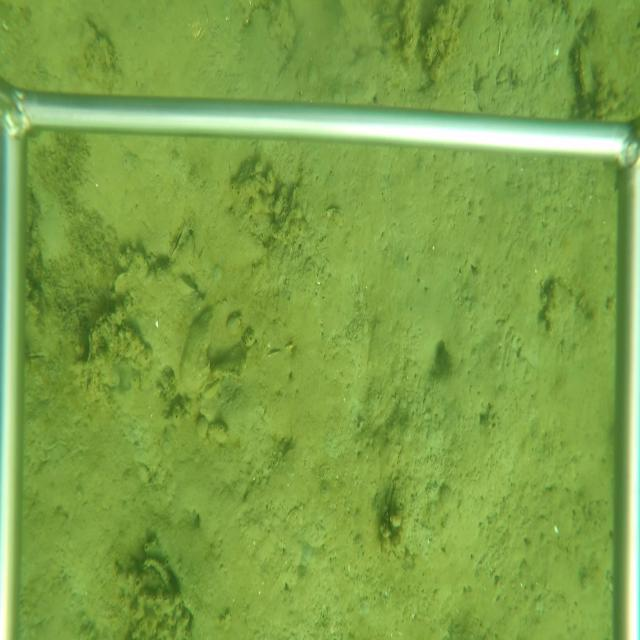Oyster-Closed: (576, 36, 594, 99), (141, 556, 173, 589), (169, 224, 187, 261)
